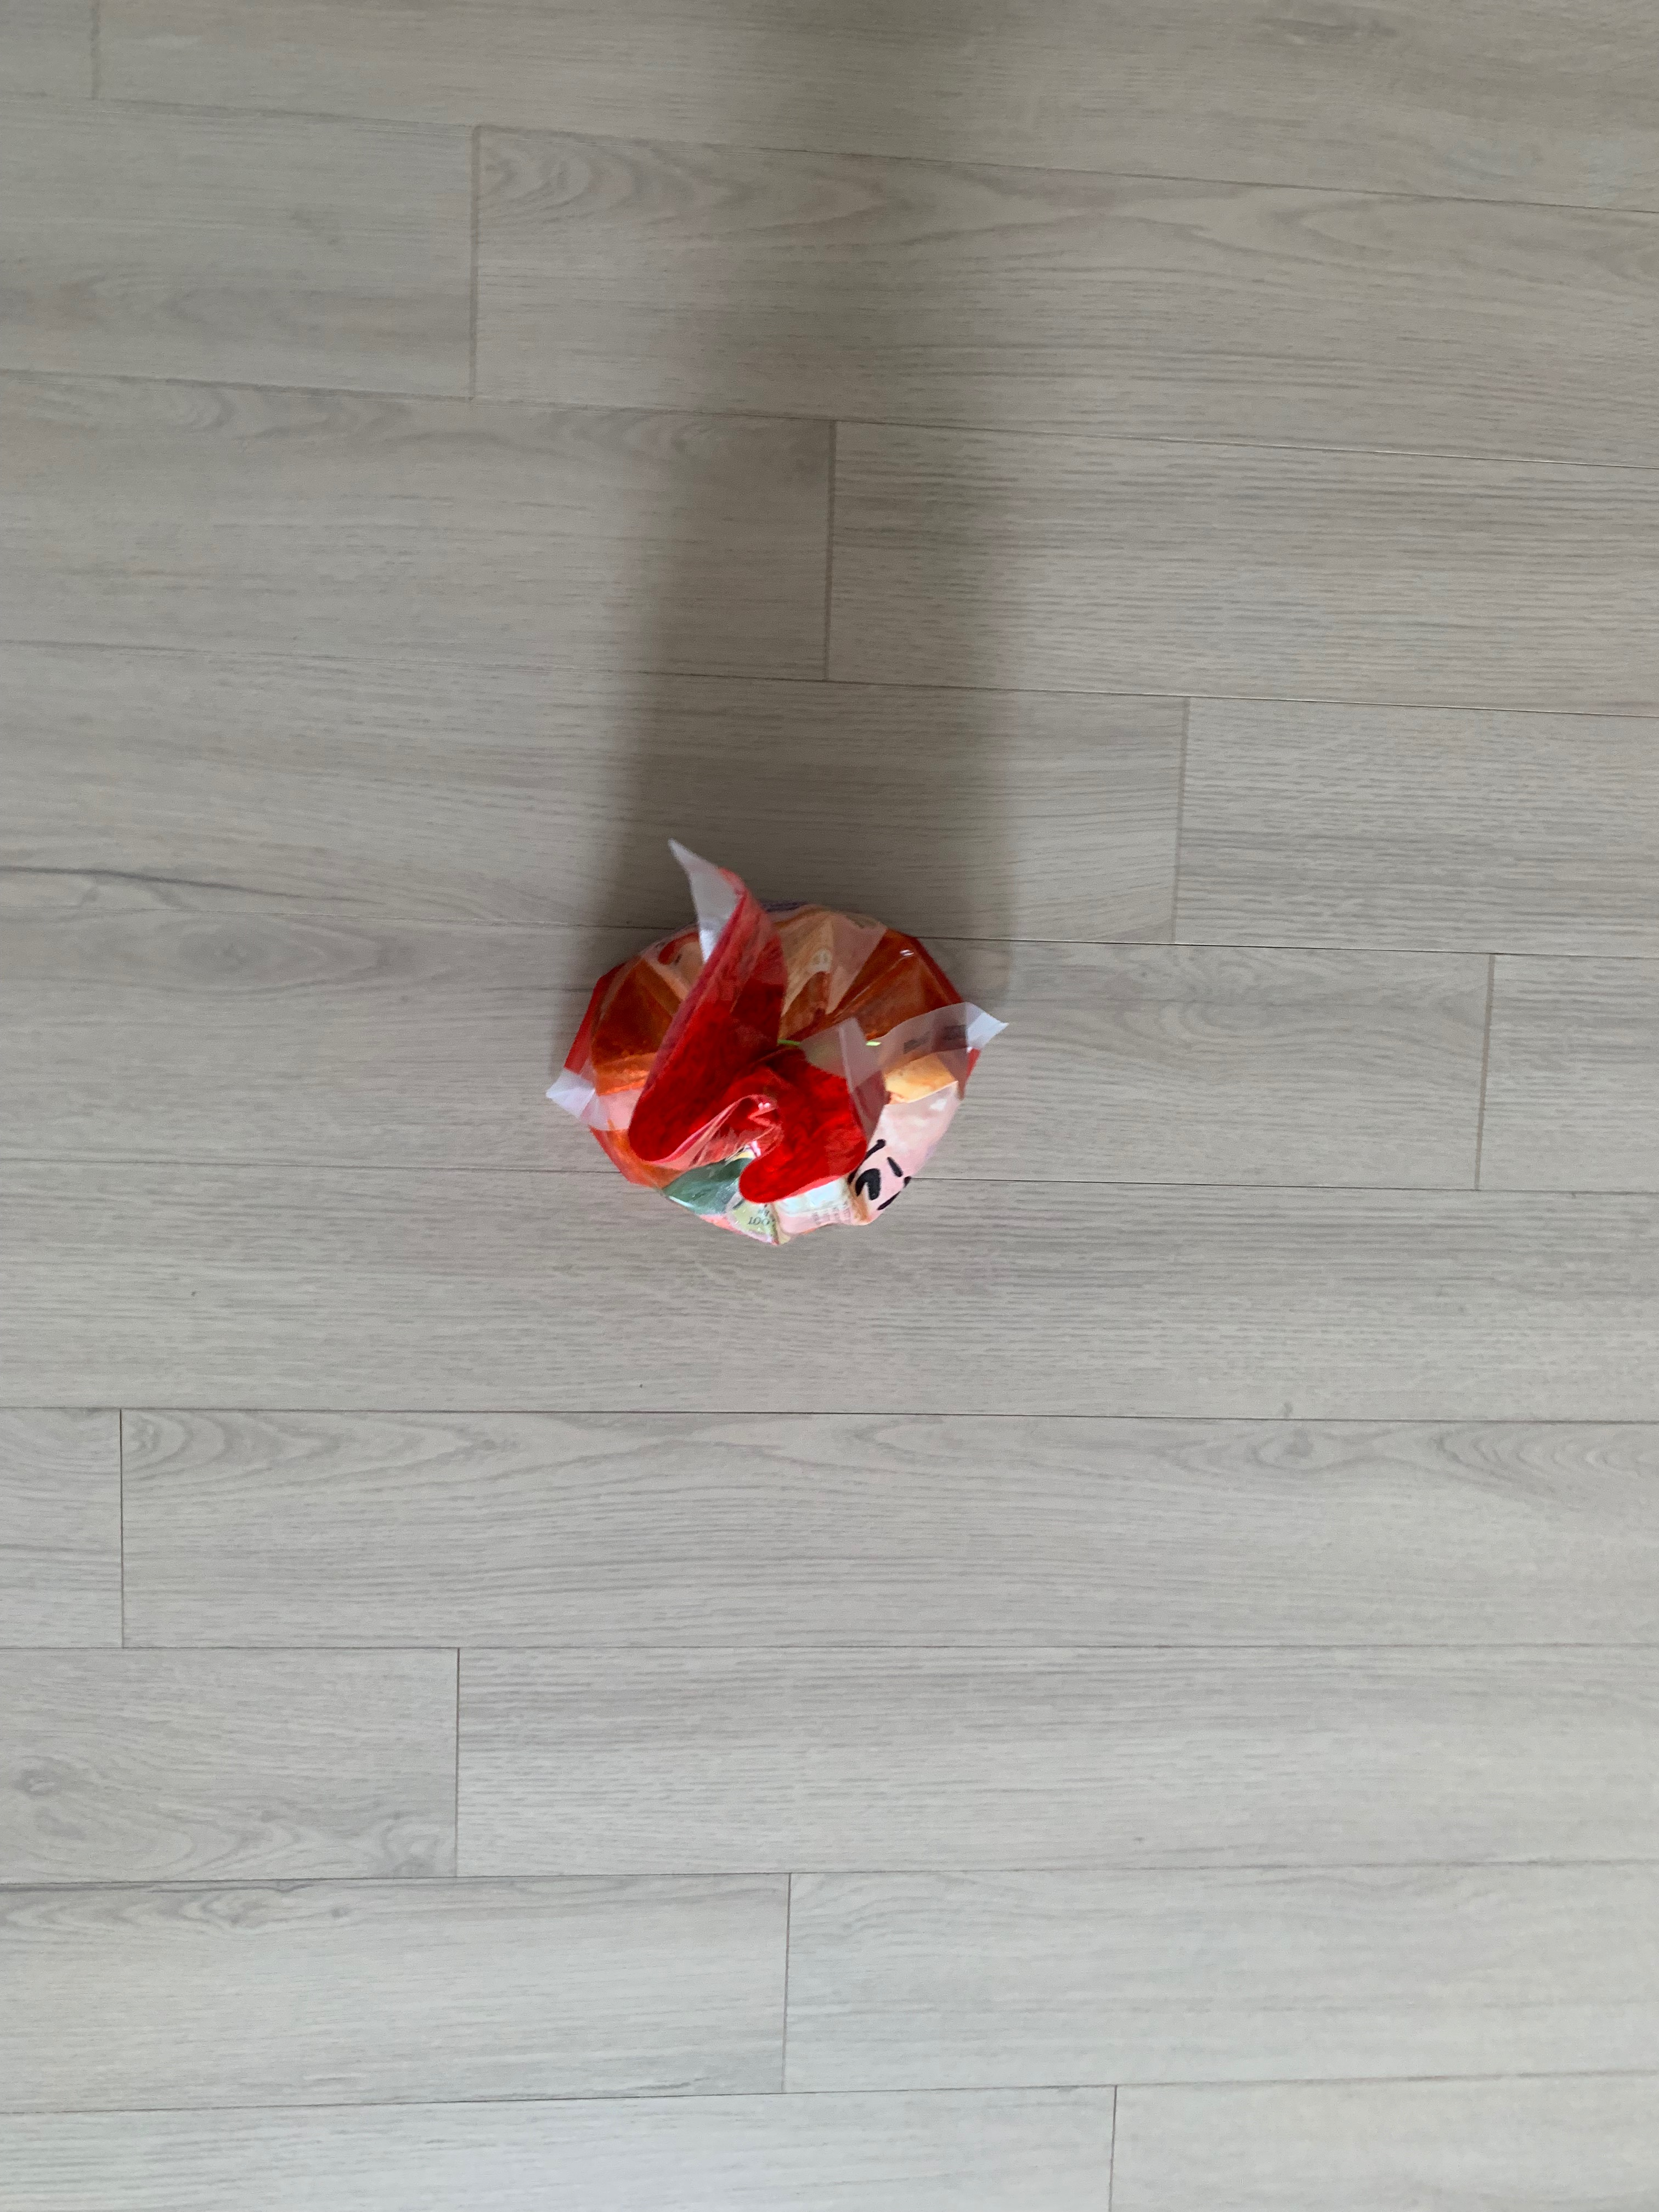kimchi: (568, 906, 978, 1238)
